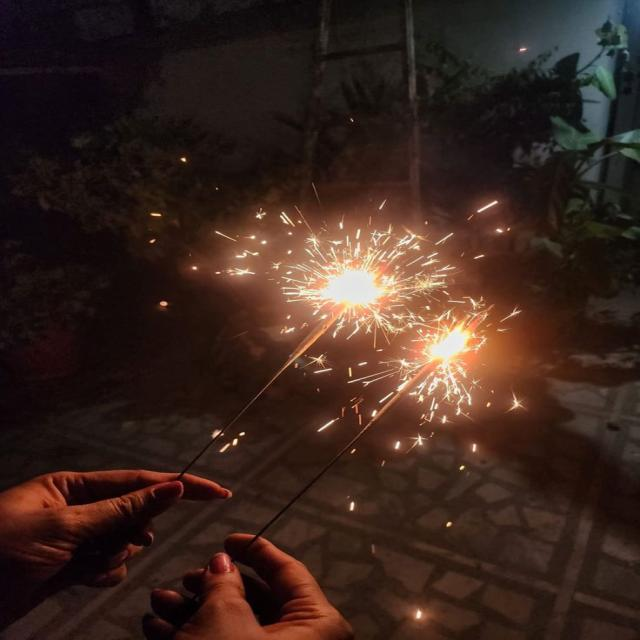fire: (321, 268, 398, 307), (428, 324, 472, 359)
